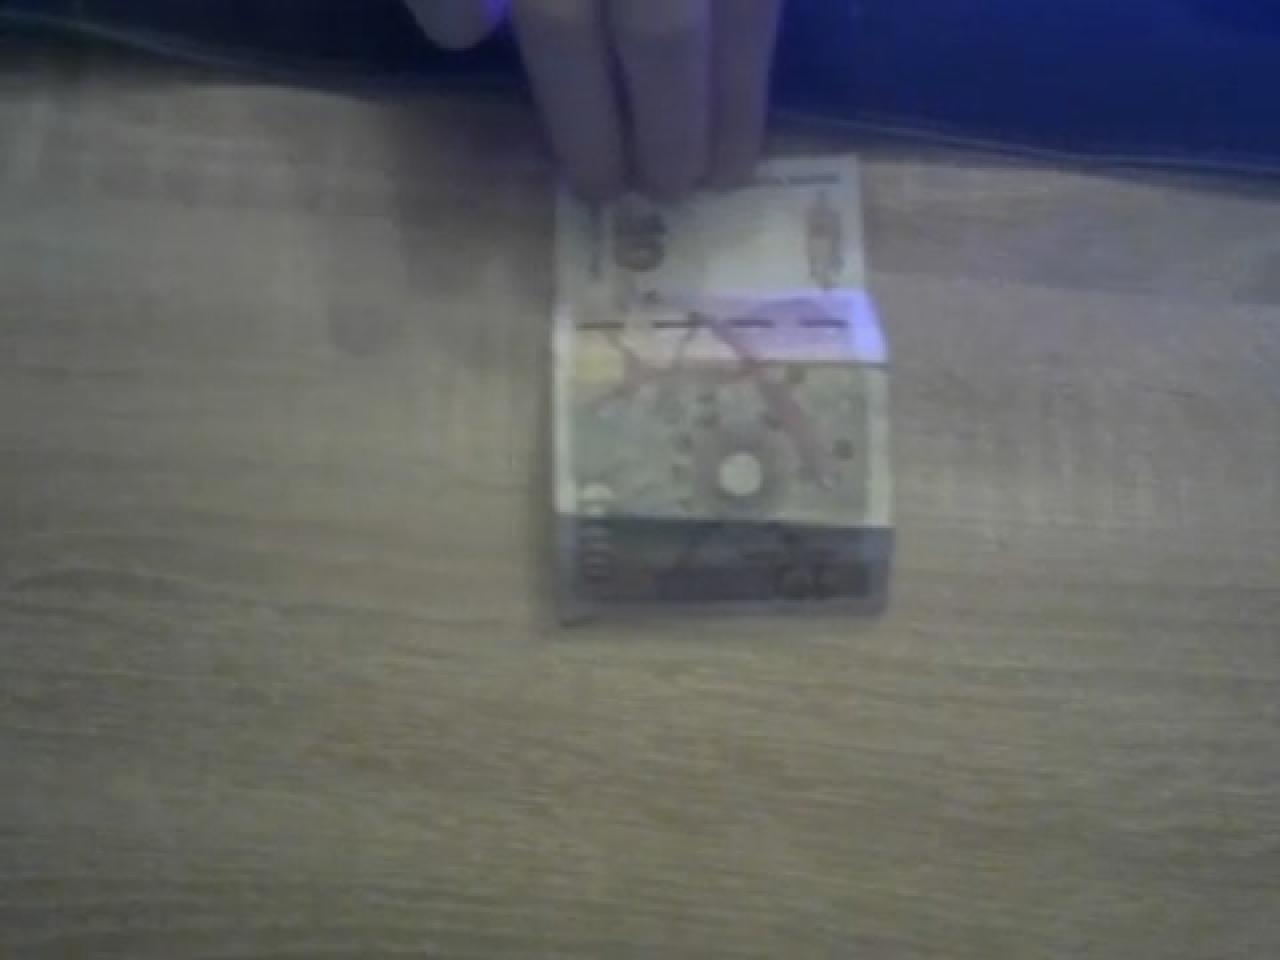10leva: (549, 157, 893, 619)
